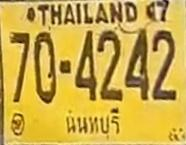0: (33, 31, 56, 103)
2: (96, 29, 123, 100), (152, 30, 178, 98)
4: (124, 28, 148, 99), (74, 30, 96, 100)
7: (9, 31, 30, 103)
NBI: (59, 107, 126, 140)
